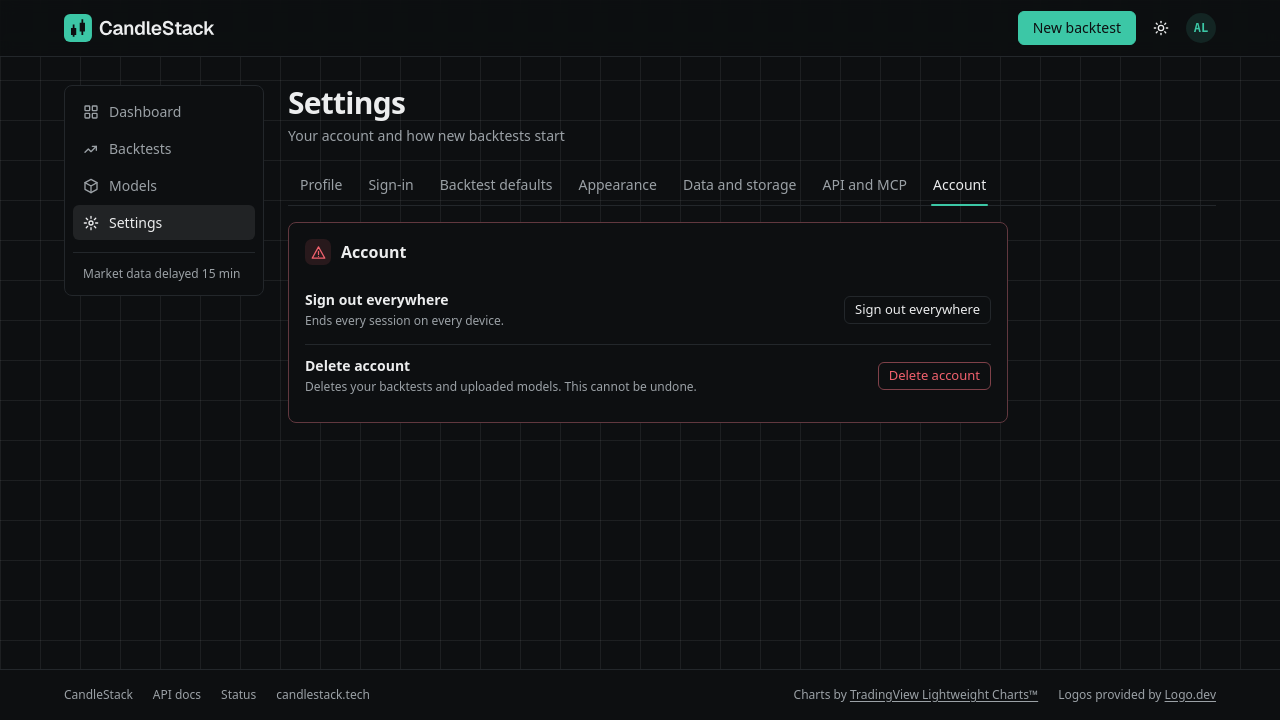
Account › signs out everywhere: ends every session, forgets the user and goes home
expect the text "Ends every session on every device." is shown: met, box x1=305 y1=312 x2=504 y2=330
Click the button "Sign out everywhere": [918, 310] box x1=844 y1=296 x2=991 y2=324
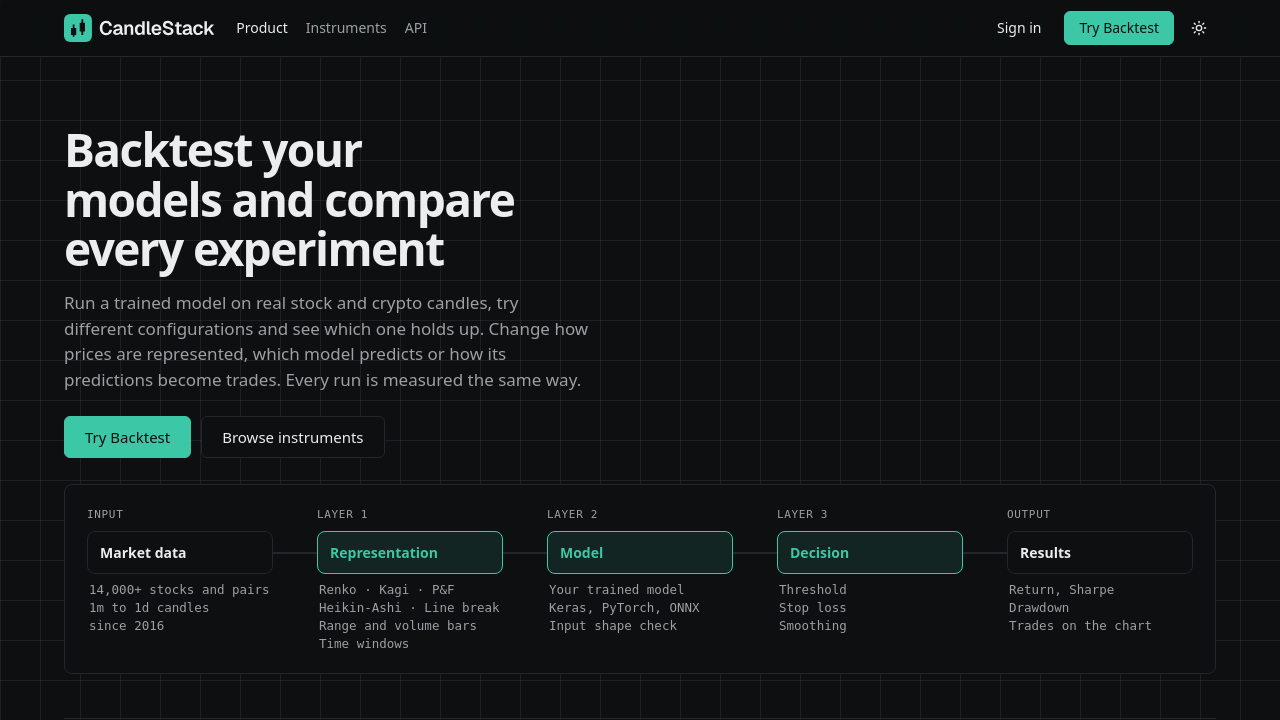
expect the link "Sign in" is shown: met, box x1=997 y1=18 x2=1042 y2=37
